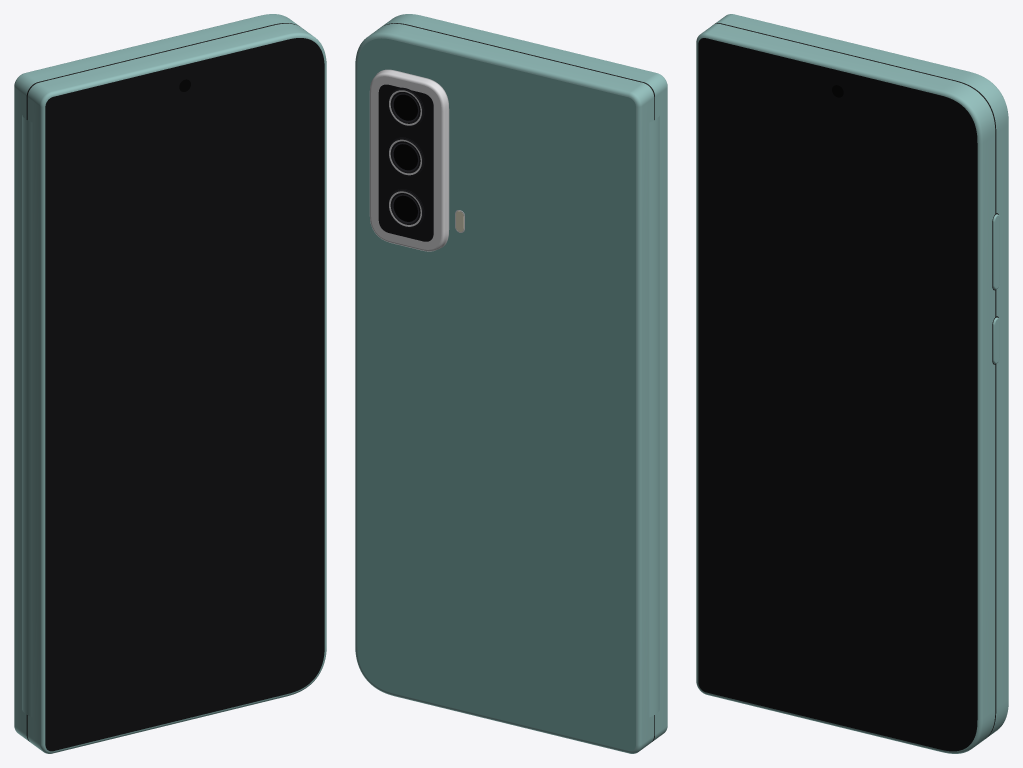
The model's file is honor-magic-vs.glb.
3 views of the same model, side by side, from view 1: azimuth 30°, elevation 25°; view 2: azimuth 150°, elevation 25°; view 3: azimuth 330°, elevation 25° (orthographic).
Visible parts, largest first — view 1: body, fold; view 2: body, camera, fold; view 3: body, fold, buttons.
Part boxes in pixels (bbox=[...]): body: bbox=[14, 14, 326, 753]; fold: bbox=[22, 23, 299, 741]; body: bbox=[355, 14, 667, 753]; camera: bbox=[369, 69, 464, 251]; fold: bbox=[382, 23, 659, 741]; body: bbox=[696, 14, 1008, 753]; fold: bbox=[715, 23, 996, 738]; buttons: bbox=[992, 213, 999, 364].
Size of the model in its own units: 73.48 by 160 by 15.22.
